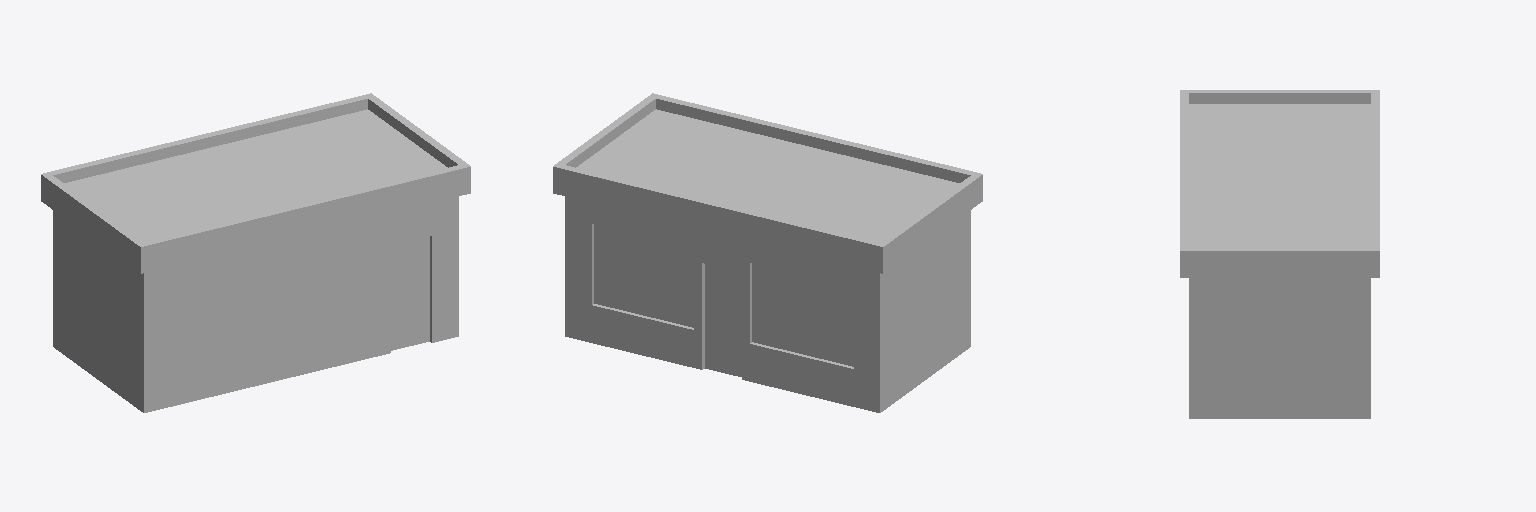
File: gas-station-store.obj
3 renders of one model, left to right at view 1: azimuth 30°, elevation 25°; view 2: azimuth 150°, elevation 25°; view 3: azimuth 270°, elevation 25°, orthographic.
Parts seen in each view (by area): view 1: Cube.002_Cube.003; view 2: Cube.002_Cube.003; view 3: Cube.002_Cube.003.
Part boxes in pixels (x1,y1,x2,y2): Cube.002_Cube.003: (41,93,470,412); Cube.002_Cube.003: (553,93,982,412); Cube.002_Cube.003: (1180,90,1379,418).
Size of the model in its own units: 3.82 by 1.89 by 2.